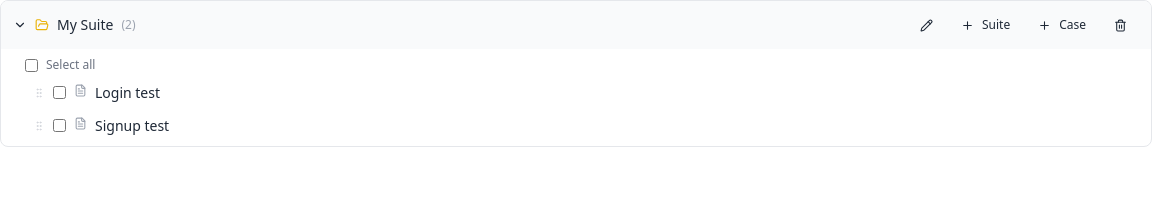
Test case: CaseList — Select all › shows the Delete button in the bulk bar after clicking Select all
The width and height of the screenshot is (1152, 222).
Click the checkbox labelled "Select all": (32, 65) [25, 58, 38, 72]
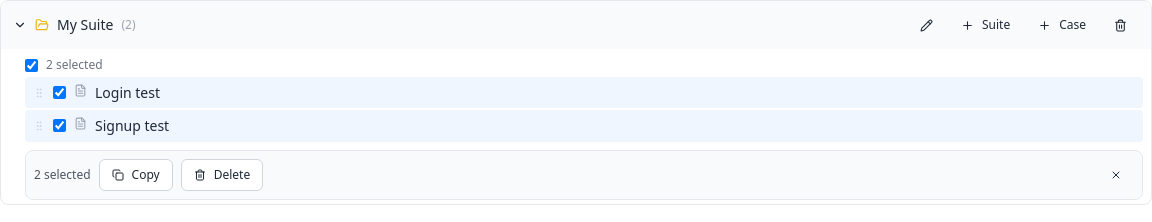
Result: the button "Delete" is shown at [181, 158, 263, 190]
